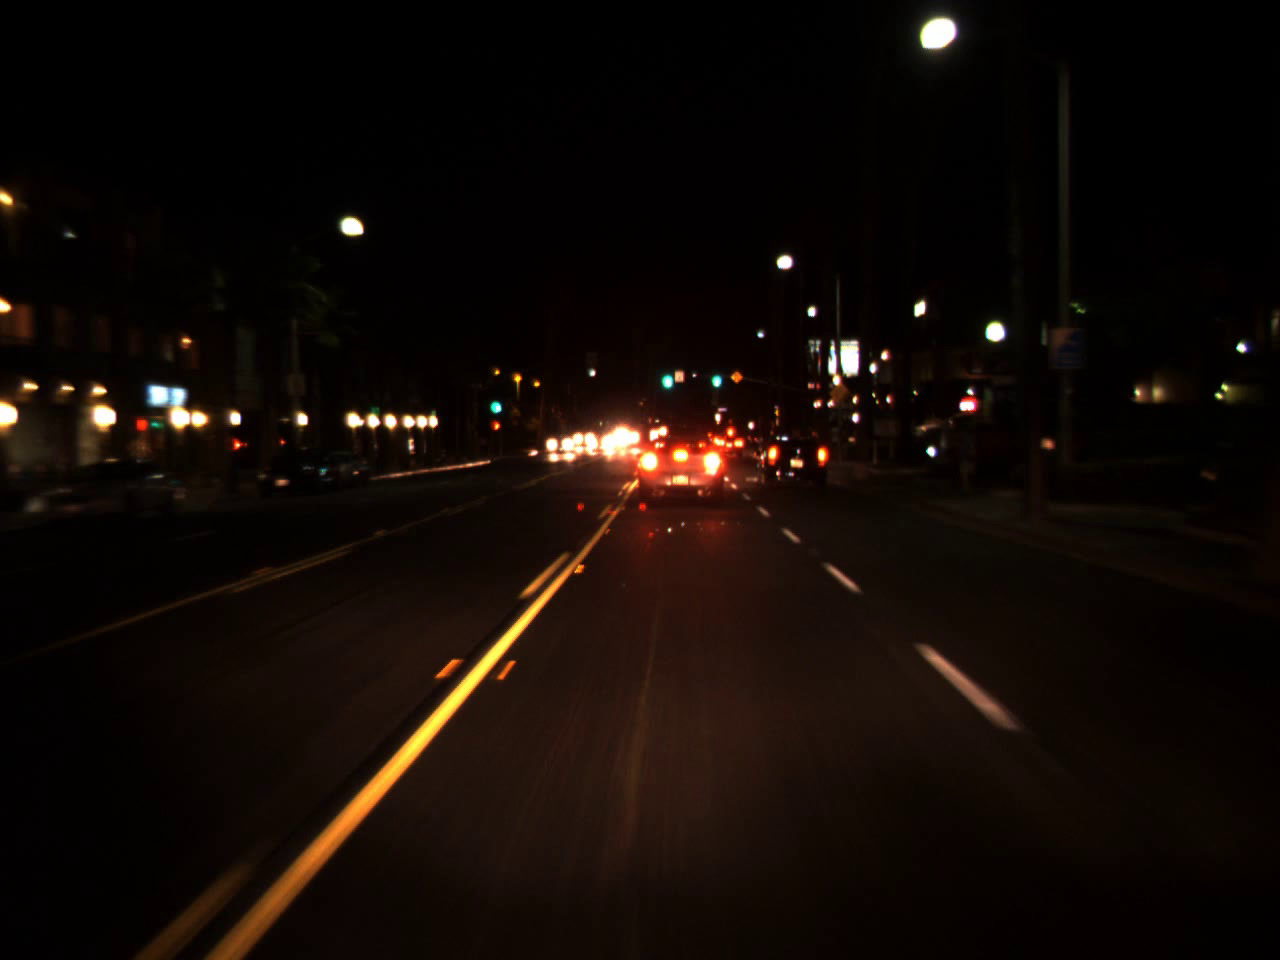go: (660, 358, 674, 394), (488, 387, 502, 417), (708, 364, 722, 388)
